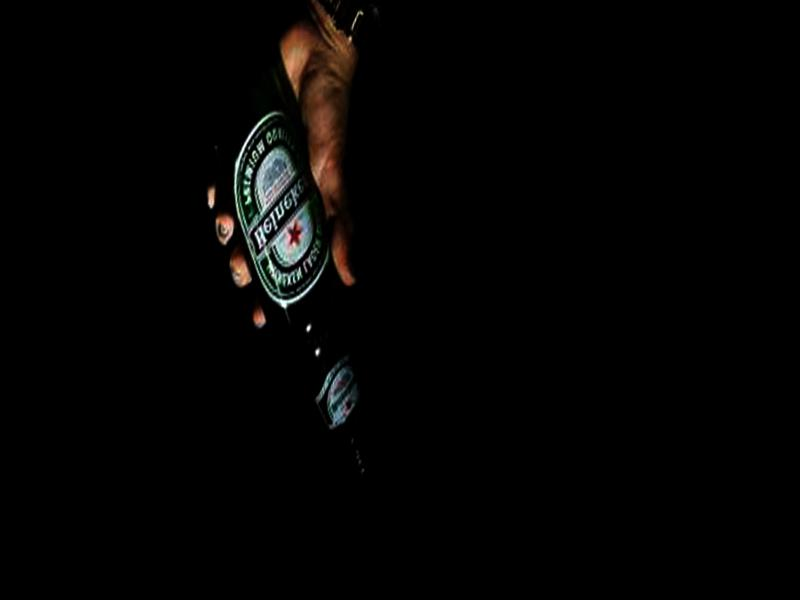Beer: (167, 38, 422, 492)
